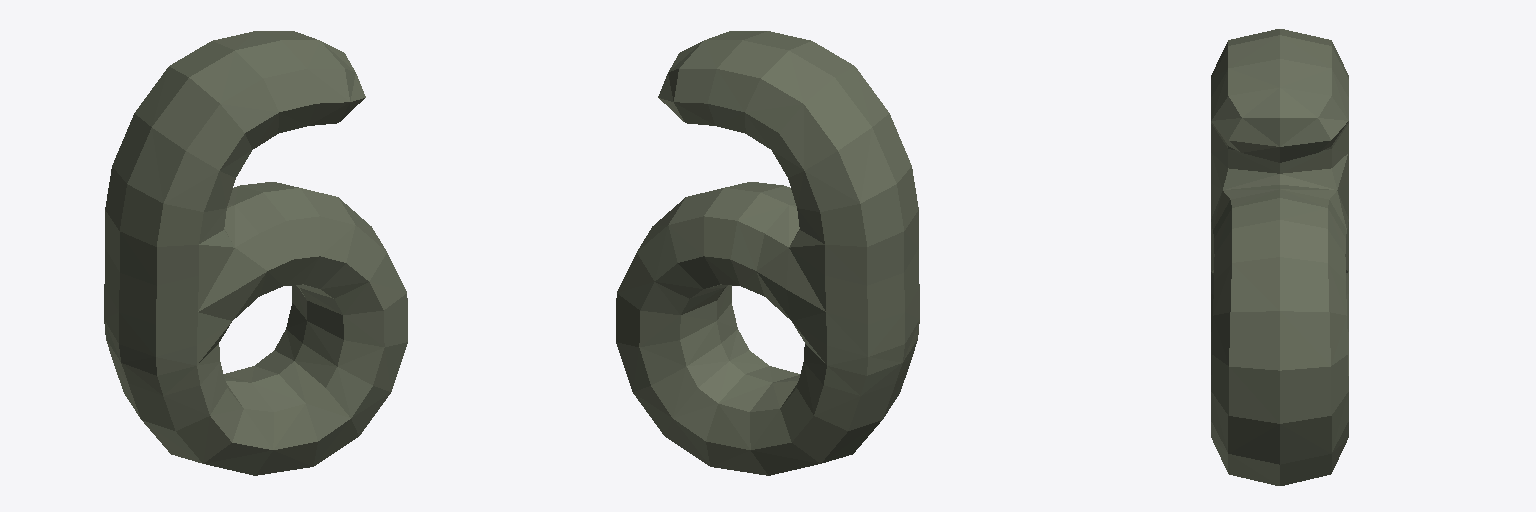
The model's file is Numbers_6.obj.
3 views of the same model, side by side, from view 1: azimuth 30°, elevation 25°; view 2: azimuth 150°, elevation 25°; view 3: azimuth 270°, elevation 25° (orthographic).
Visible parts, largest first — view 1: Numbers_6_Cube.036; view 2: Numbers_6_Cube.036; view 3: Numbers_6_Cube.036.
Boxes of the visible parts, <box> form: Numbers_6_Cube.036: <box>104,31,407,475</box>; Numbers_6_Cube.036: <box>616,31,919,475</box>; Numbers_6_Cube.036: <box>1211,29,1348,485</box>.
Size of the model in its own units: 0.7597 by 1.12 by 0.3295.